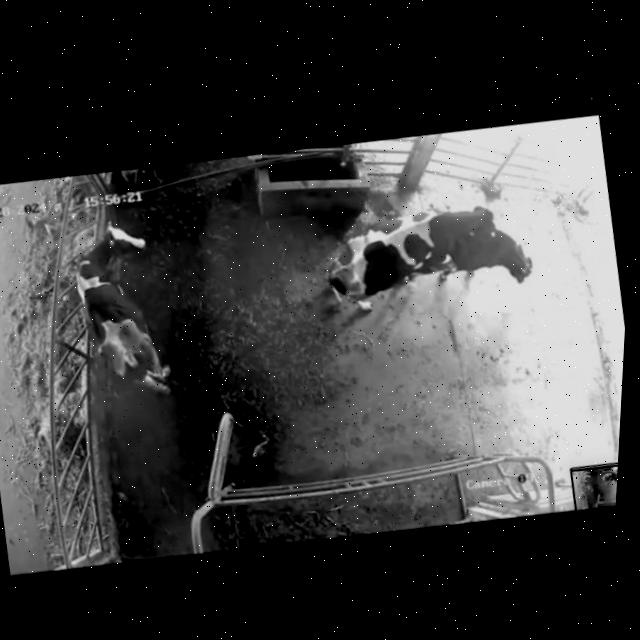ride: (288, 176, 511, 329)
stand: (57, 201, 197, 411), (436, 205, 554, 307)
